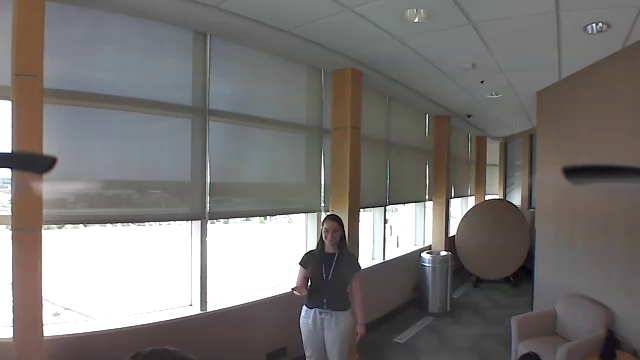land: (287, 284, 311, 297)
